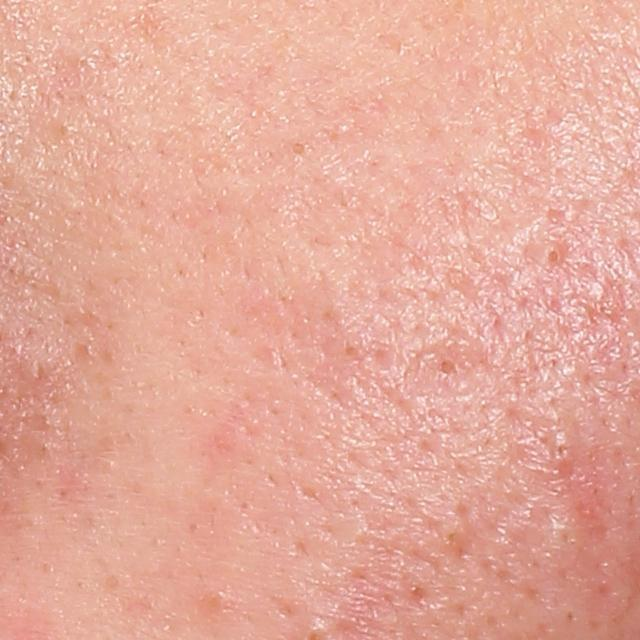comedo: (522, 237, 573, 273), (547, 432, 580, 467)
